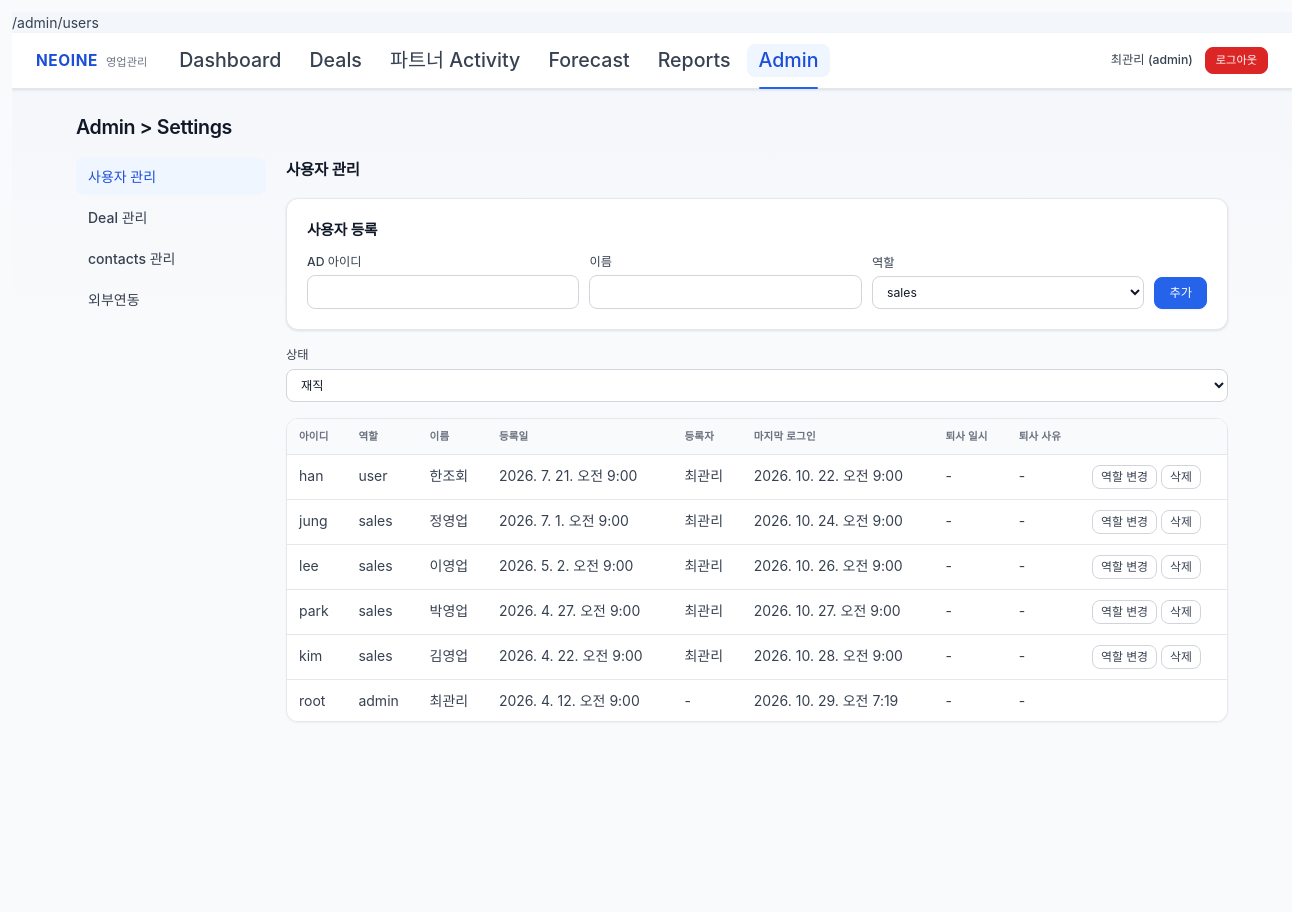
Test: 사용자 등록 (T-ADMIN-02) › blocks empty input with a message instead of sending a request
Expected: the cell "kim" is shown, [287,635,346,680]
Click the button "추가".
click(1181, 293)  # box [1154,277,1207,309]
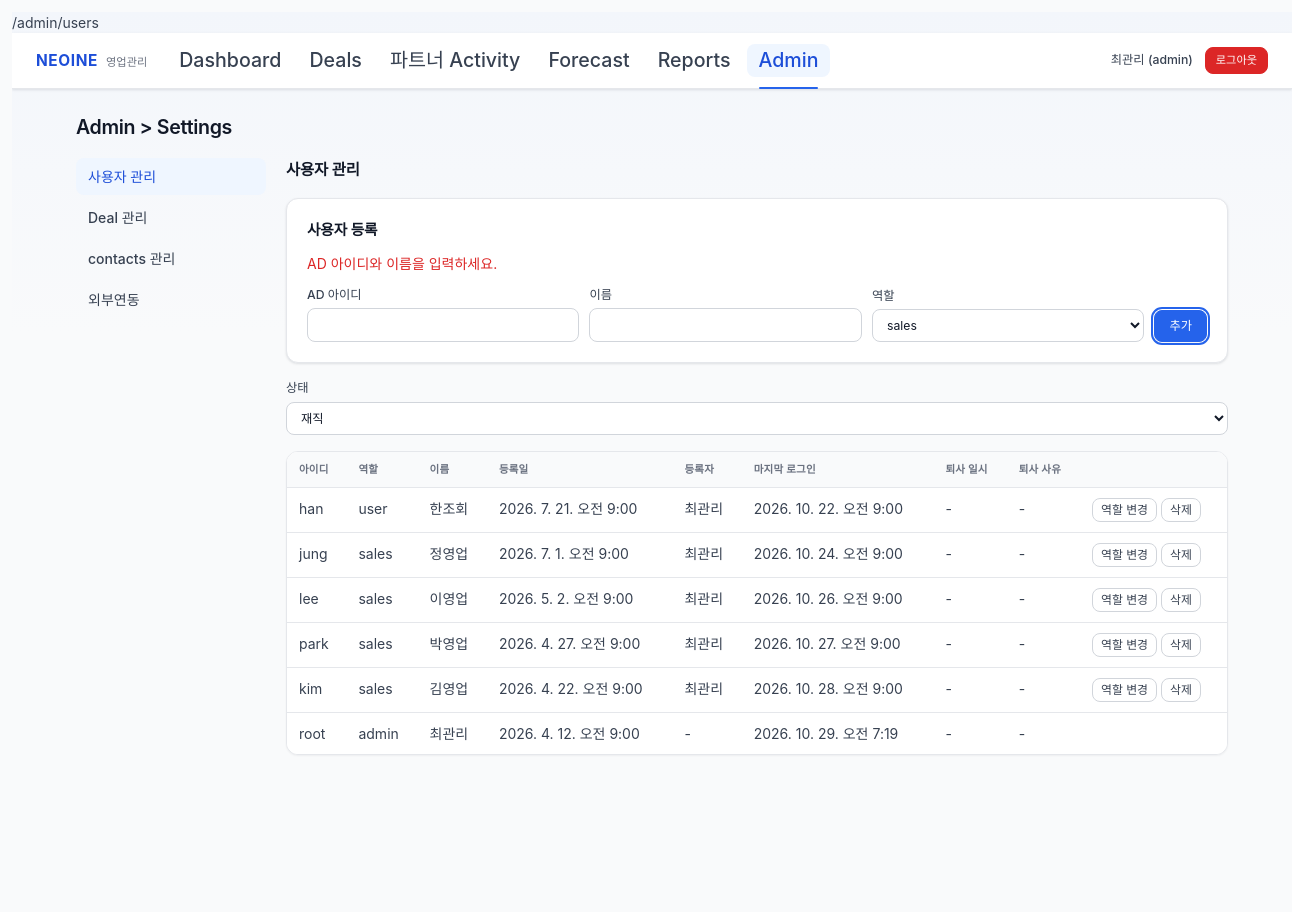
Expected: the message reads "AD 아이디와 이름을 입력하세요.", [307,254,497,272]
